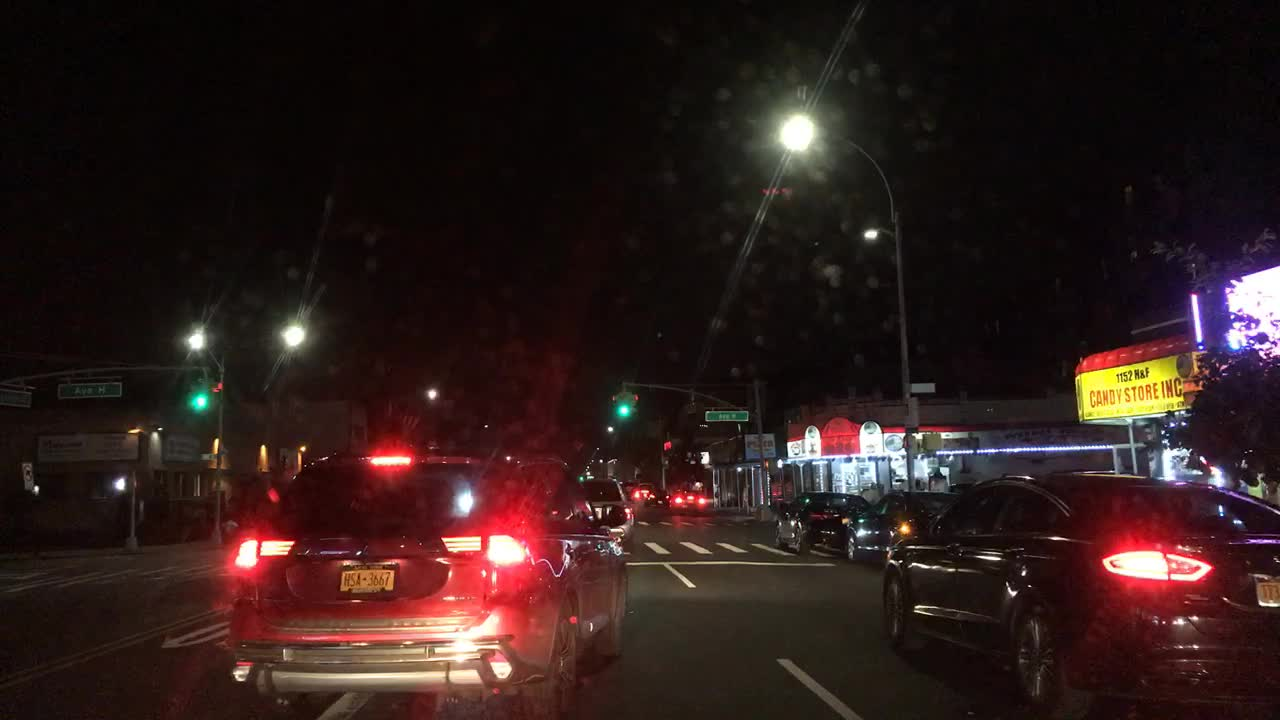car: (229, 447, 625, 714), (875, 471, 1276, 717), (843, 489, 959, 570), (770, 489, 869, 555), (580, 478, 635, 544), (624, 477, 667, 526), (665, 483, 706, 517)
traffic light: (205, 375, 223, 422), (921, 428, 941, 451), (193, 379, 206, 413), (626, 391, 638, 417), (111, 476, 127, 492), (662, 435, 675, 454), (618, 391, 627, 417)
traffic sign: (55, 379, 121, 399), (705, 406, 752, 425), (21, 458, 36, 495), (0, 387, 30, 405), (912, 379, 936, 394)
